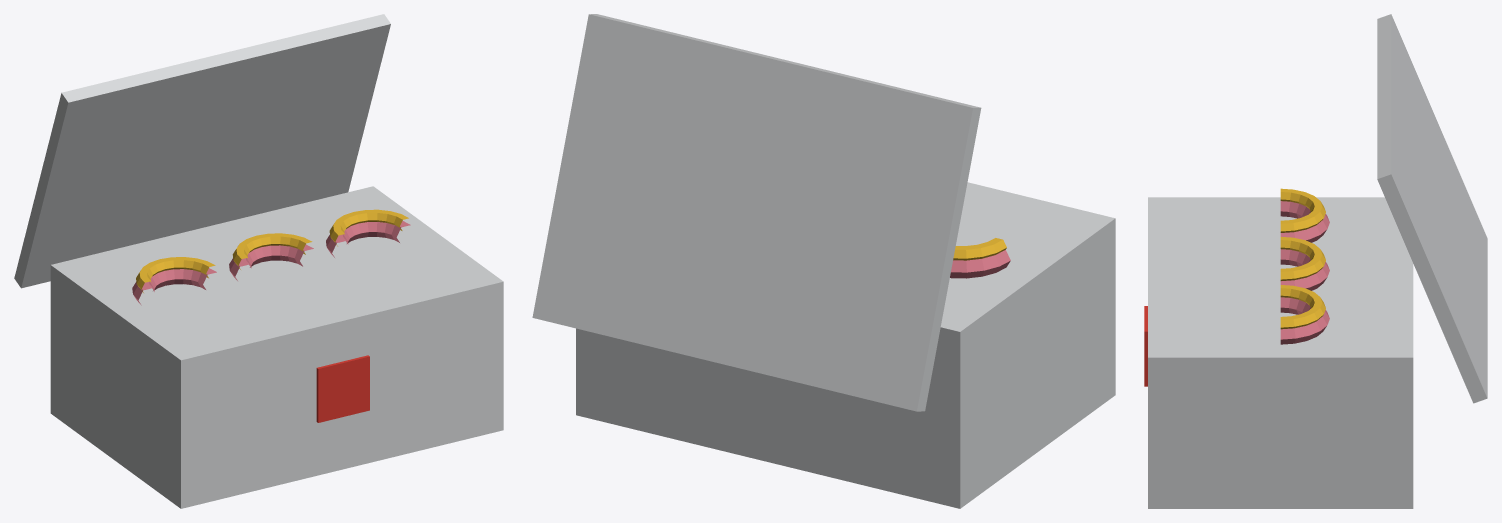
Rendered from dentures_box.glb.
3 views of the same model, side by side, from view 1: azimuth 30°, elevation 25°; view 2: azimuth 150°, elevation 25°; view 3: azimuth 270°, elevation 25° (orthographic). The views are drawn at different scales.
Parts seen in each view (by area): view 1: box_dentures_case, lid_dentures_case, gum_dentures_gum (×3), teeth_dentures_gold, cross_dentures_cross; view 2: lid_dentures_case, box_dentures_case, gum_dentures_gum, teeth_dentures_gold; view 3: box_dentures_case, lid_dentures_case, teeth_dentures_gold, gum_dentures_gum (×3).
Part boxes in pixels (x1=…): box_dentures_case: x1=50, y1=186, x2=503, y2=508; lid_dentures_case: x1=14, y1=14, x2=390, y2=288; gum_dentures_gum (×3): x1=132, y1=221, x2=410, y2=305; teeth_dentures_gold: x1=136, y1=209, x2=408, y2=292; cross_dentures_cross: x1=316, y1=355, x2=369, y2=422; lid_dentures_case: x1=532, y1=14, x2=981, y2=411; box_dentures_case: x1=576, y1=182, x2=1115, y2=508; gum_dentures_gum: x1=950, y1=250, x2=1010, y2=278; teeth_dentures_gold: x1=953, y1=238, x2=1006, y2=260; box_dentures_case: x1=1148, y1=197, x2=1413, y2=508; lid_dentures_case: x1=1377, y1=14, x2=1487, y2=403; teeth_dentures_gold: x1=1280, y1=188, x2=1325, y2=329; gum_dentures_gum (×3): x1=1280, y1=201, x2=1329, y2=344.
Size of the model in its own units: 0.5 by 0.4867 by 0.4522.
